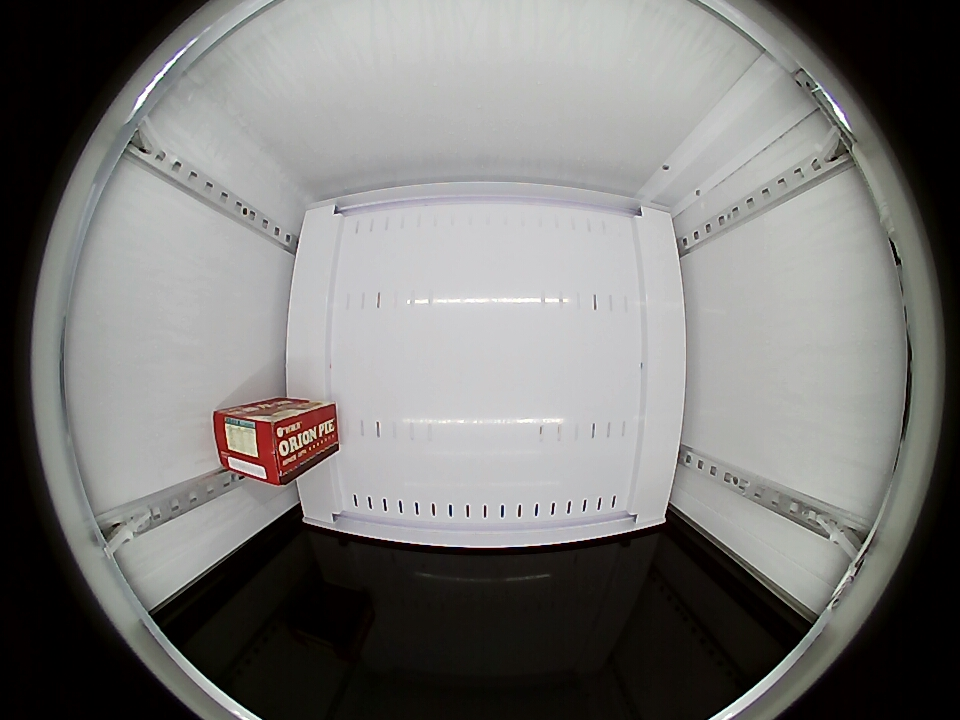haoliyou: (213, 402, 303, 486)
